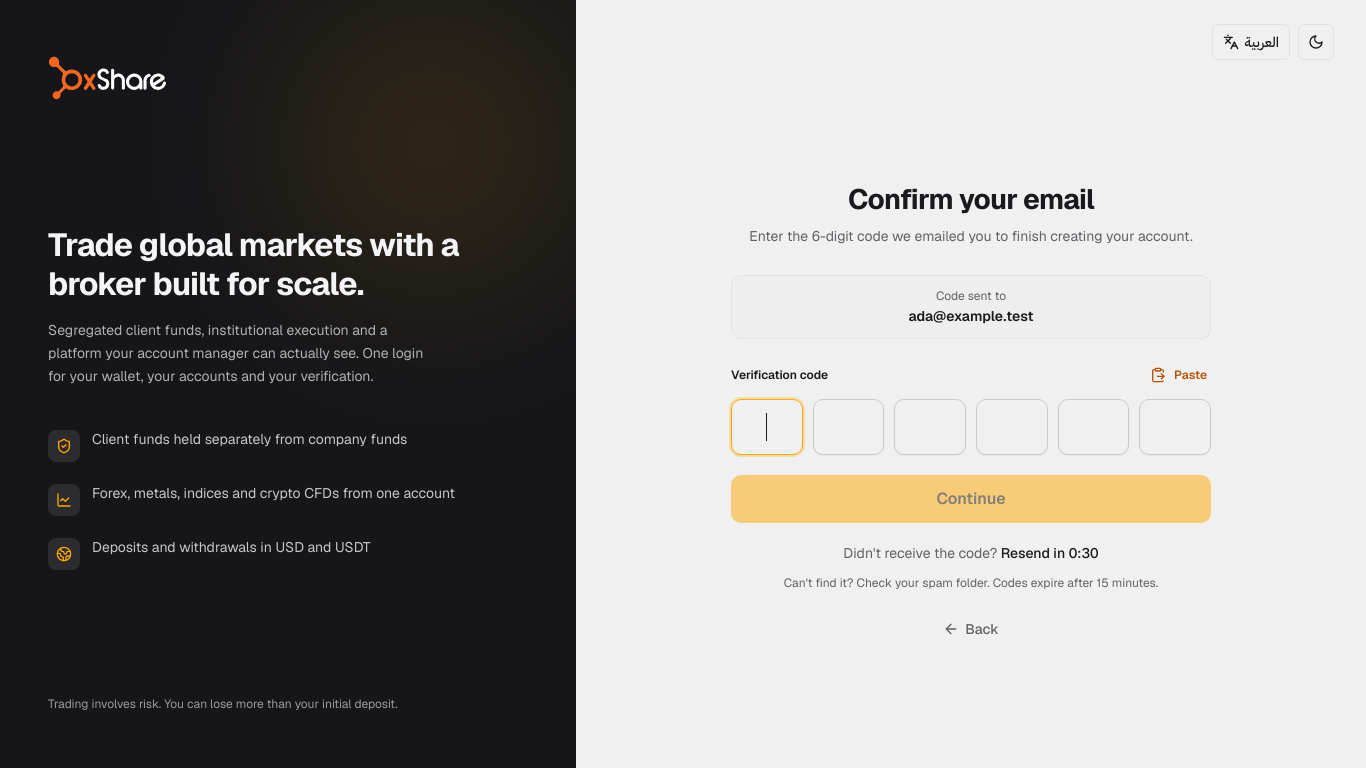
Test: paste › explains a refused clipboard rather than failing silently
Click the button "Paste".
click(1179, 375)  # box left=1138, top=359, right=1219, bottom=391
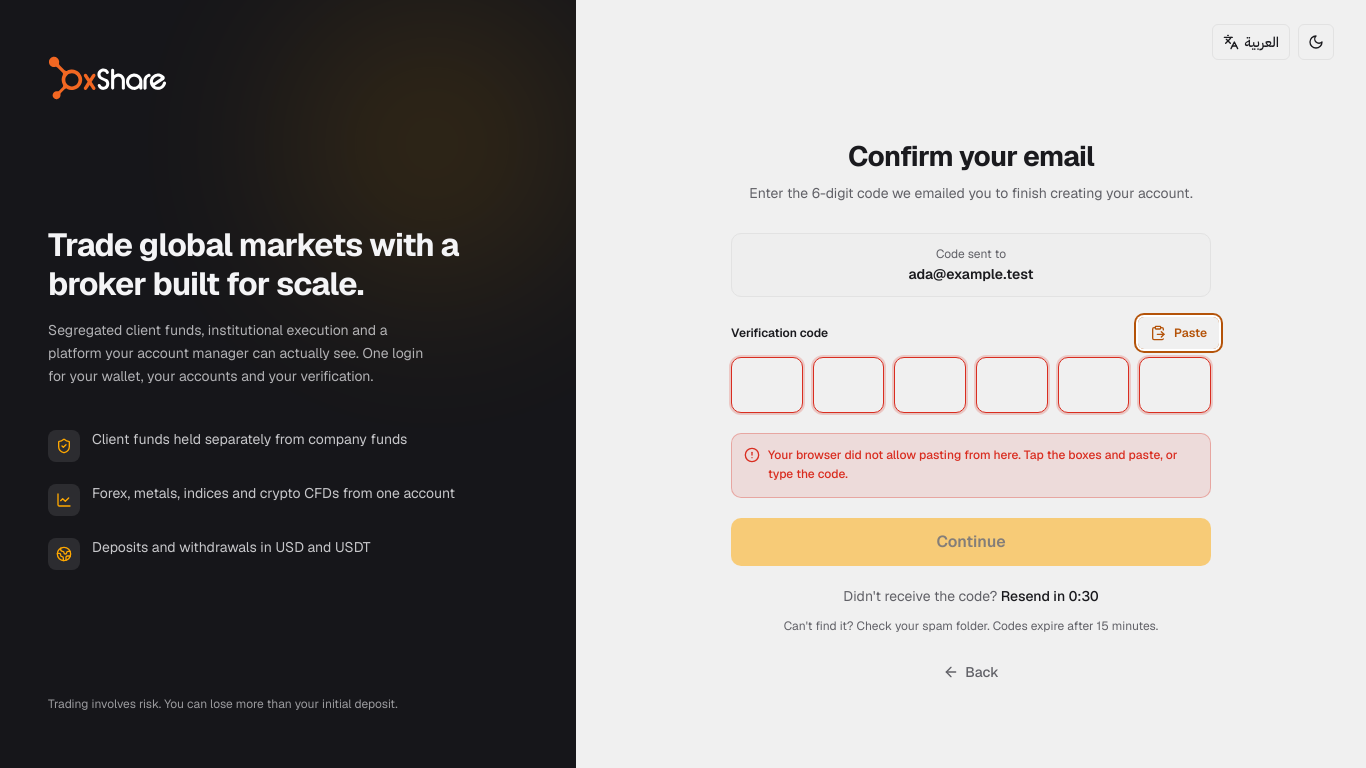
Result: the message shows "did not allow pasting" at left=768, top=447, right=1178, bottom=482
